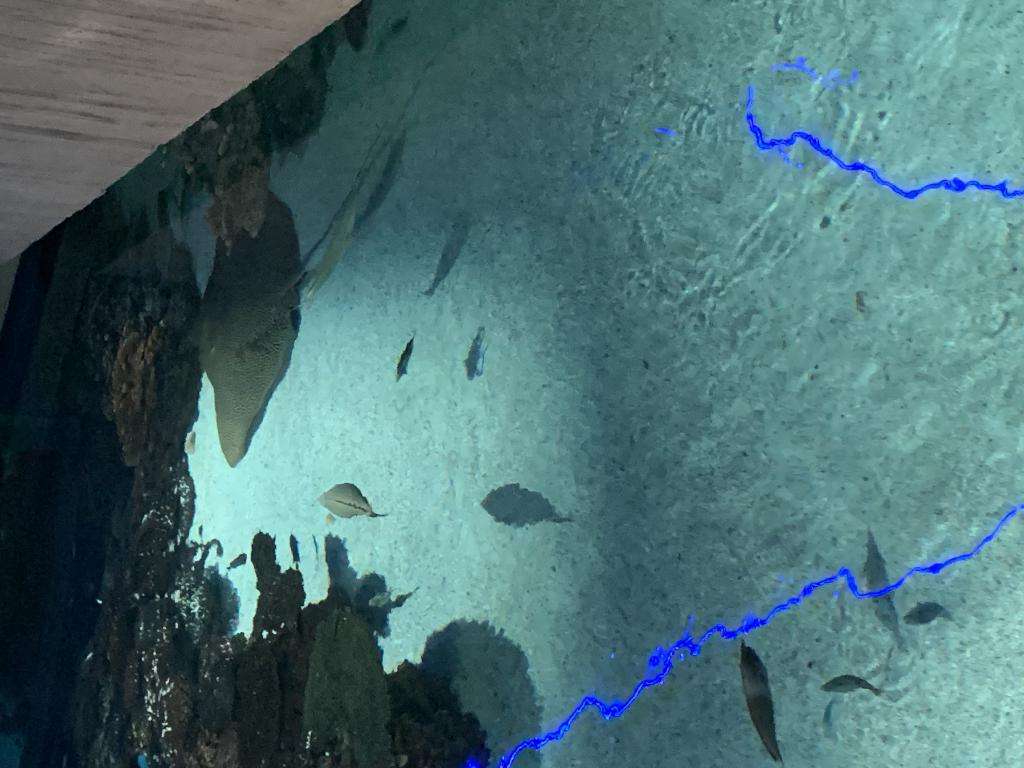fish: (732, 637, 786, 763), (316, 482, 382, 524), (822, 666, 882, 708), (390, 334, 416, 384), (284, 533, 302, 573), (226, 550, 248, 570)
stingray: (200, 185, 302, 467)
